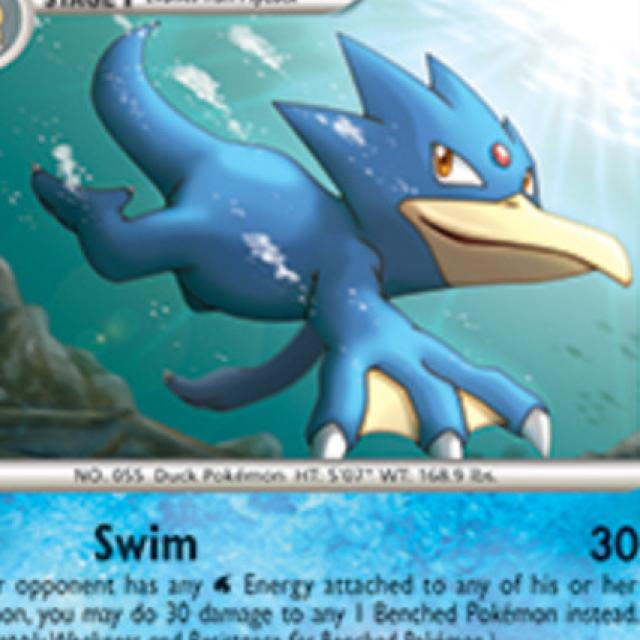Golduck: (75, 57, 620, 437)
